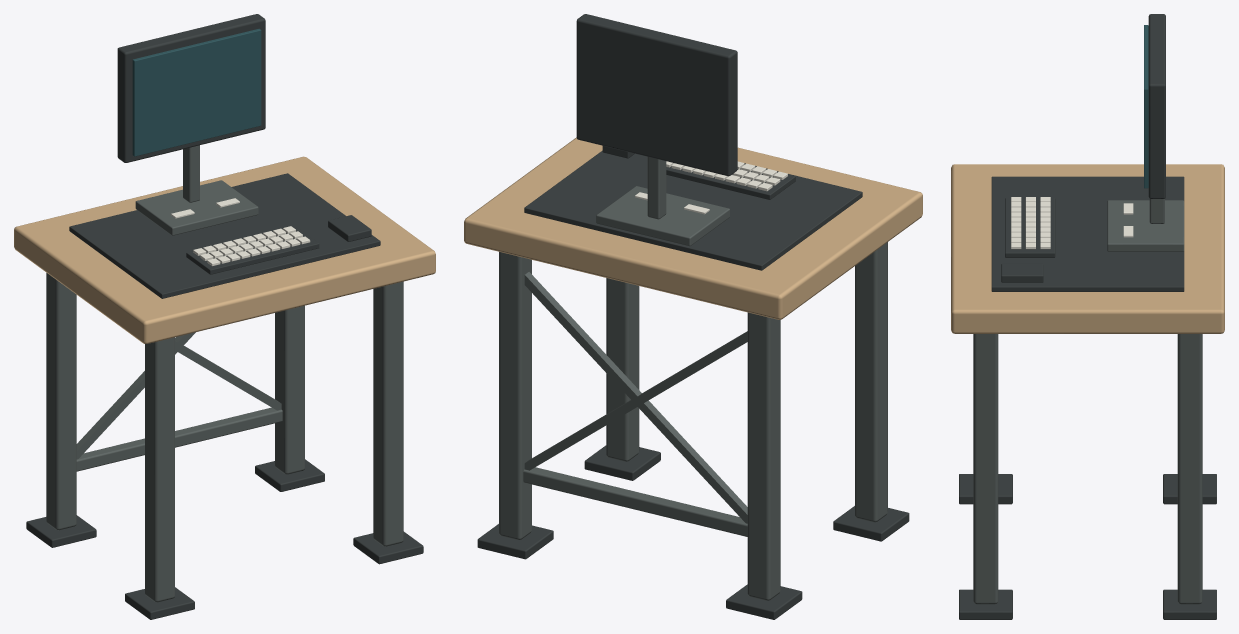
File: public-library-and-reading-garden-public-library-and-r-bfca09c2__30911.glb
3 views of the same model, side by side, from view 1: azimuth 30°, elevation 25°; view 2: azimuth 150°, elevation 25°; view 3: azimuth 270°, elevation 25° (orthographic). The views are drawn at different scales.
Visible parts, largest first — view 1: public-library-and-reading-garden-catalogue-search-terminal_ (×5); view 2: public-library-and-reading-garden-catalogue-search-terminal_ (×4); view 3: public-library-and-reading-garden-catalogue-search-terminal_ (×5).
Boxes of the visible parts, box(x1,y1,x2,y2) form: public-library-and-reading-garden-catalogue-search-terminal_ (×5): box(14, 14, 435, 619); public-library-and-reading-garden-catalogue-search-terminal_ (×4): box(464, 14, 922, 619); public-library-and-reading-garden-catalogue-search-terminal_ (×5): box(951, 14, 1224, 619).
Bounding box in the file's own units: 0.91 × 1.44 × 0.71.
